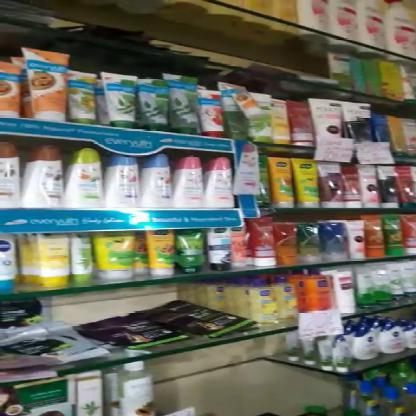Everyuth Naturals Body Lotion Nourishing Cocoa 200ml: (27, 144, 60, 208), (0, 136, 27, 206)
Everyuth Naturals Body Lotion Rejuvenating Flora 200ml: (180, 154, 210, 210), (208, 153, 236, 205)
Everyuth Naturals Body Lotion Soothing Citrus 200ml: (64, 145, 103, 208)
Everyuth Naturals Body Lotion Sun Care Berries SPF 15 200ml: (105, 154, 140, 206), (146, 153, 172, 208)
